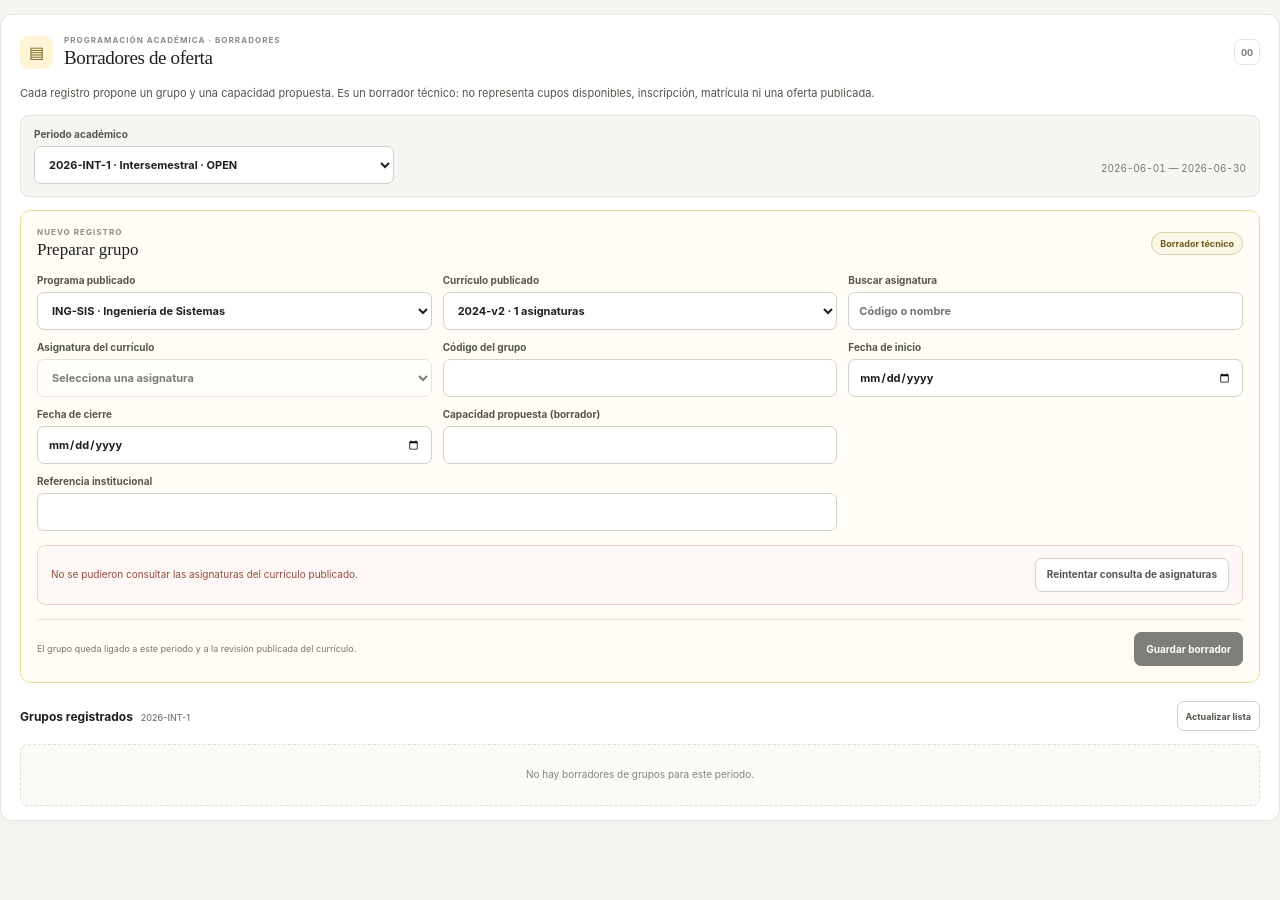
Test case: AcademicOfferingDraftPanel subject recovery › retries a failed curriculum subject read and enables the subject selector
Check: the text "No se pudieron consultar las asignaturas" is shown, box [51,568,358,580]
Check: the dropdown labelled "Asignatura del currículo" is disabled, box [37,359,432,397]
Click the button "Reintentar consulta de asignaturas".
click(1132, 575)  # box [1035,558,1229,592]
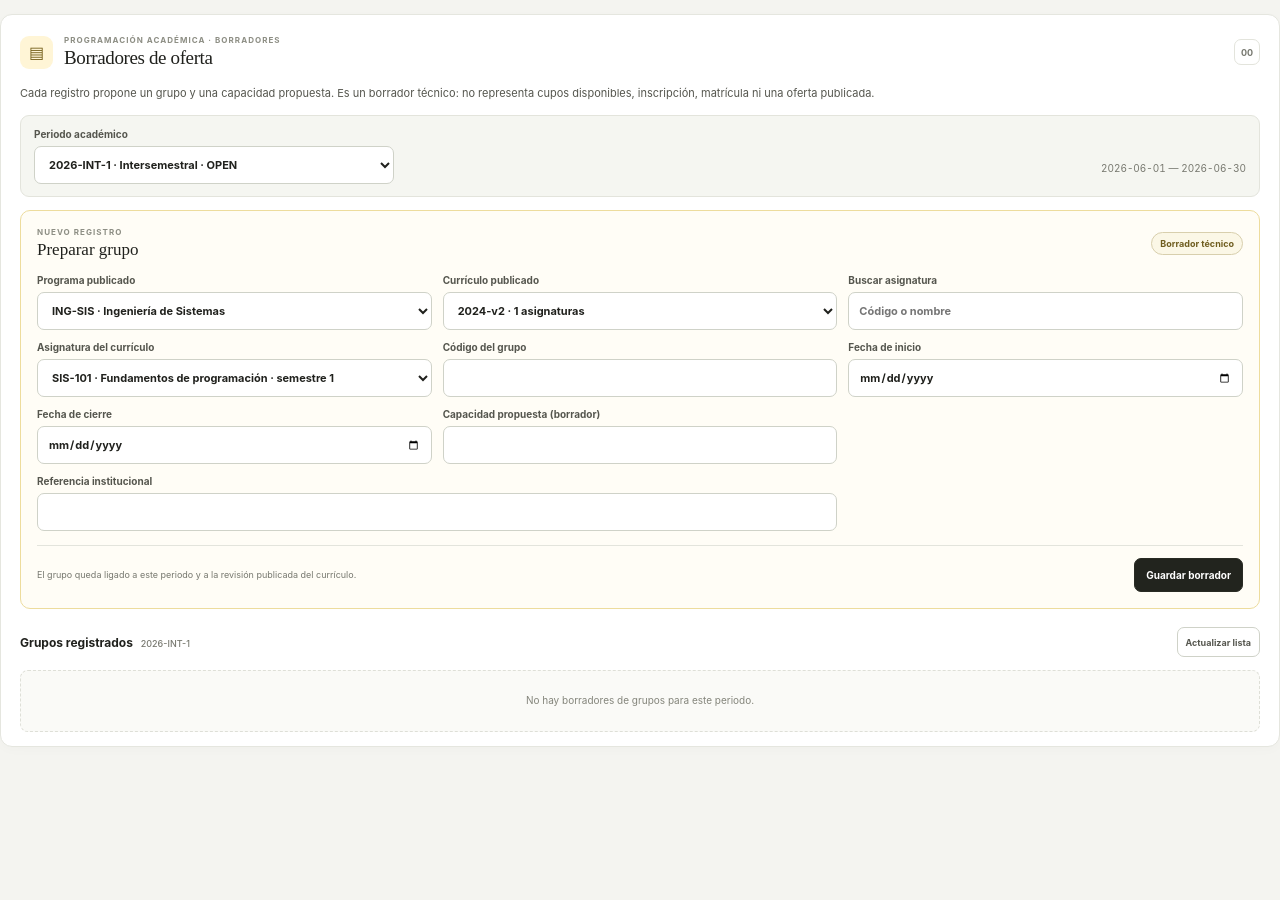
Check: the dropdown labelled "Asignatura del currículo" is enabled, box [37,359,432,397]
